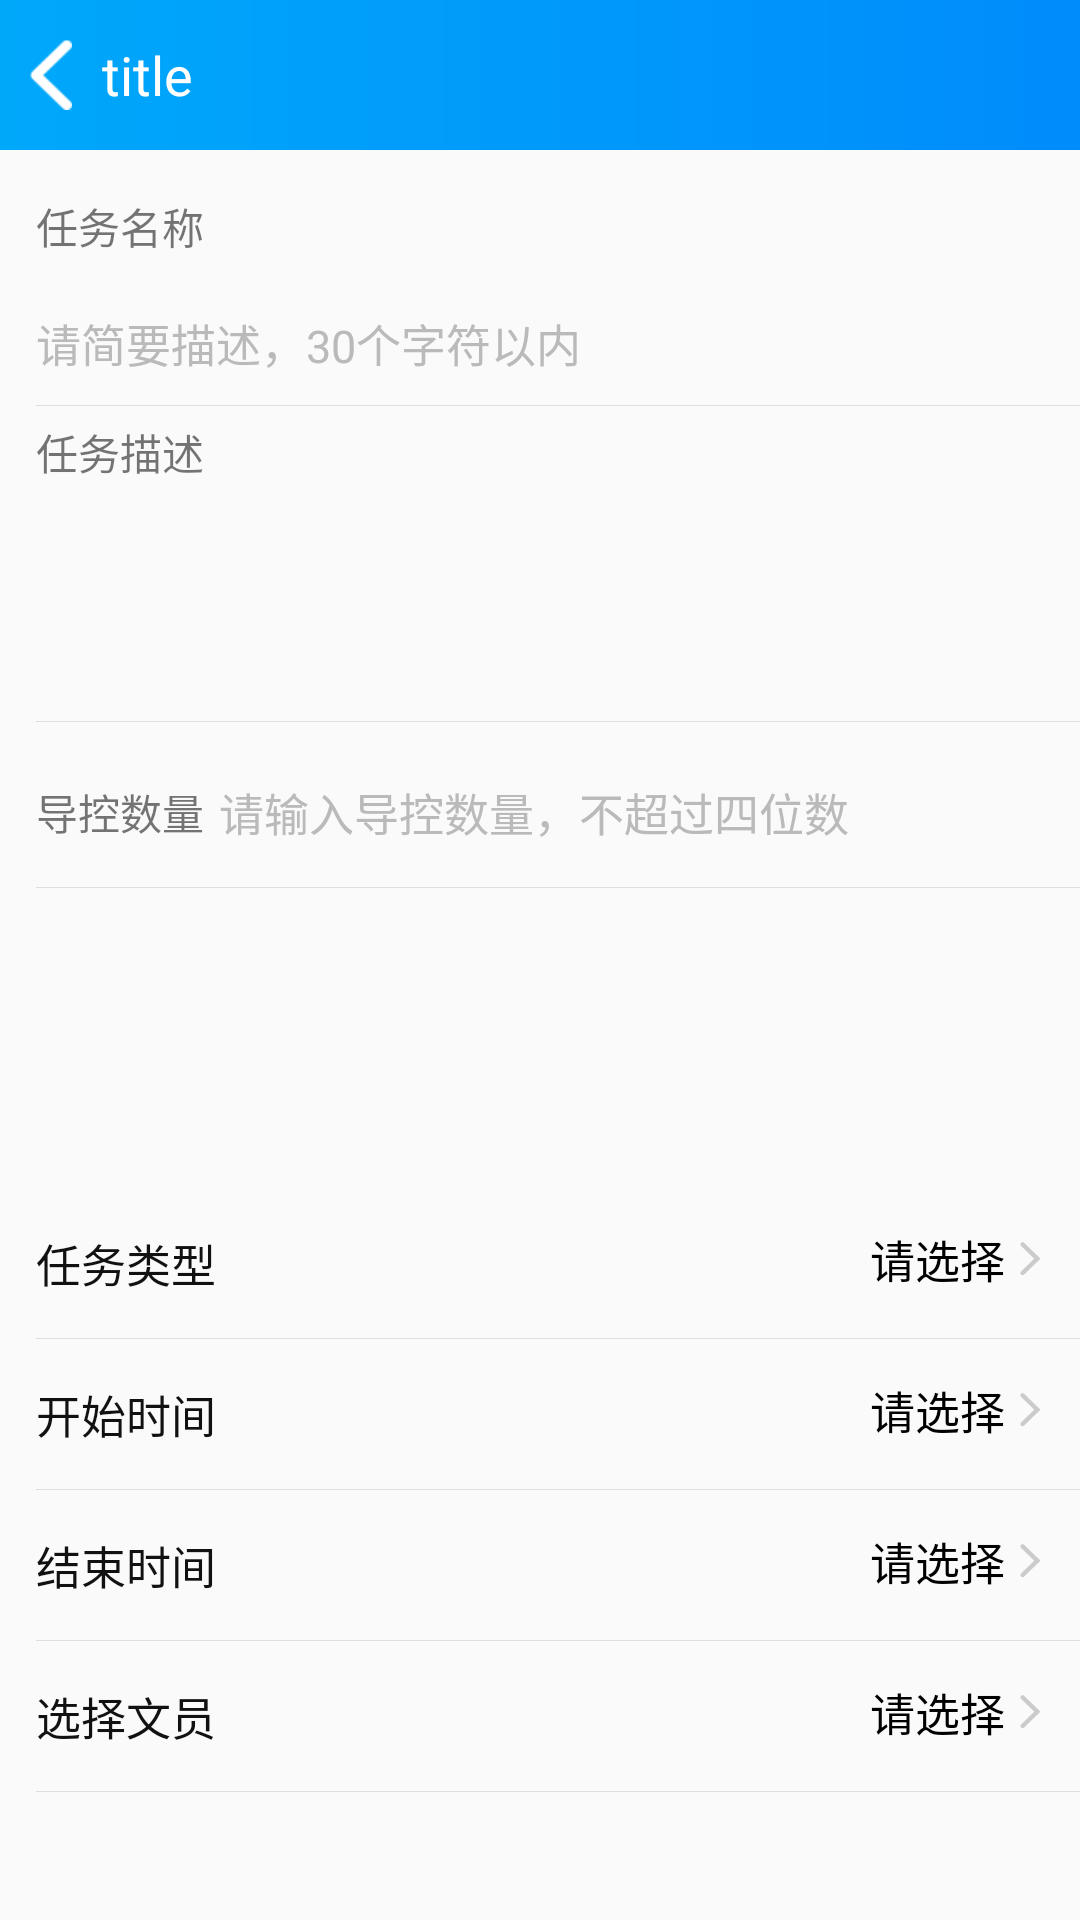

Locate icon controls on the screen. Image size 1080*1920, boxes as [left=x1, top=y1, right=x2, bottom=y2].
back: [left=30, top=40, right=72, bottom=110]
